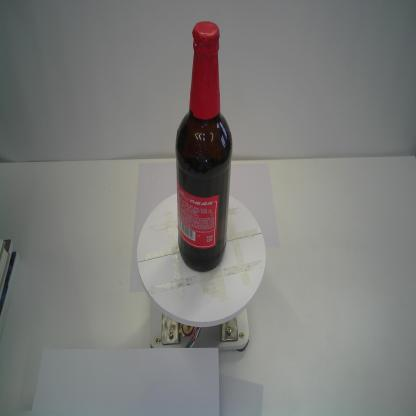Alcohol: (173, 19, 234, 276)
